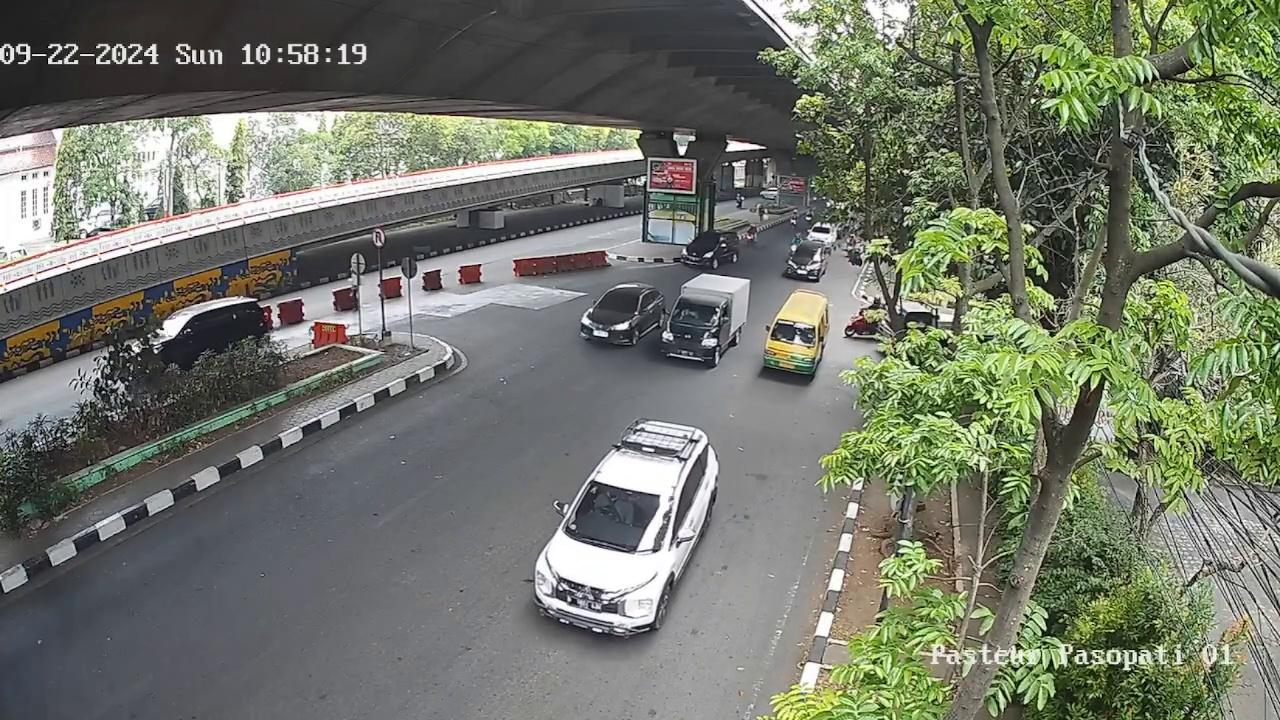pakai: (595, 492, 636, 528)
windshield: (566, 480, 672, 548), (671, 300, 724, 326), (772, 320, 816, 345), (598, 290, 641, 311)
